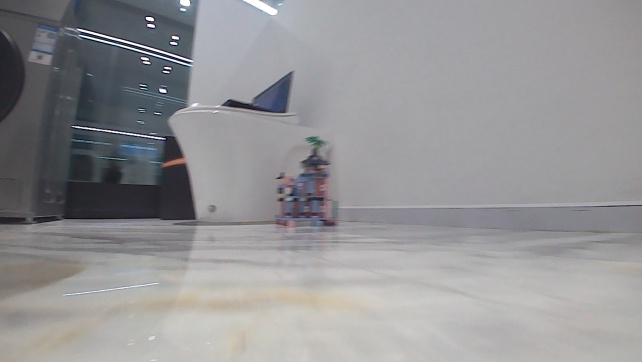plastic_toy: (268, 134, 338, 230)
toilet: (162, 102, 302, 224)
washing_machine1: (0, 12, 92, 225)
